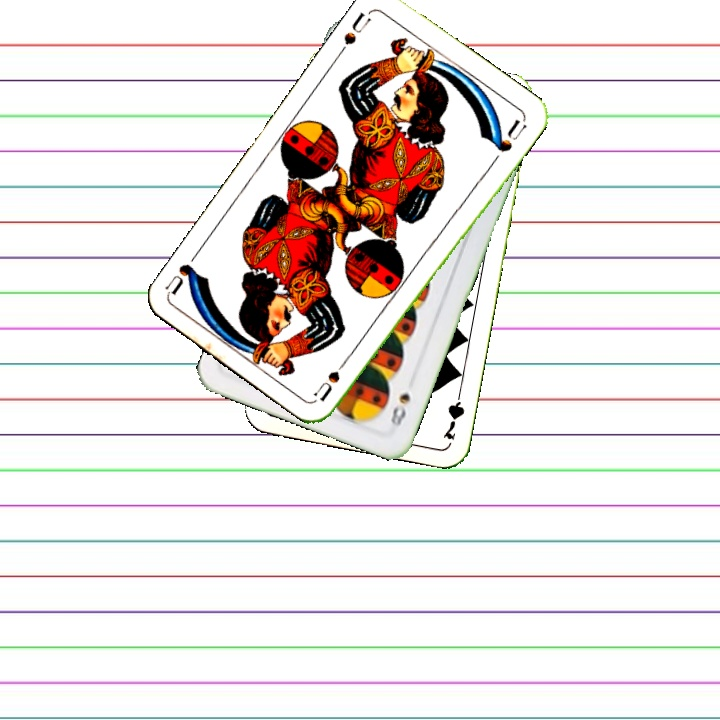G7: (439, 384, 467, 442)
S8: (386, 389, 413, 430)
SU: (312, 350, 354, 404), (339, 8, 374, 48)
